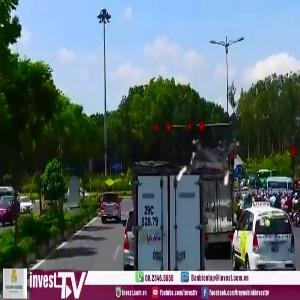drone: (176, 129, 243, 196)
